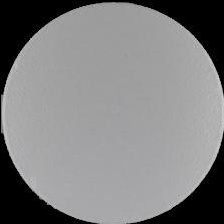54868-5950: (0, 0, 224, 224)
